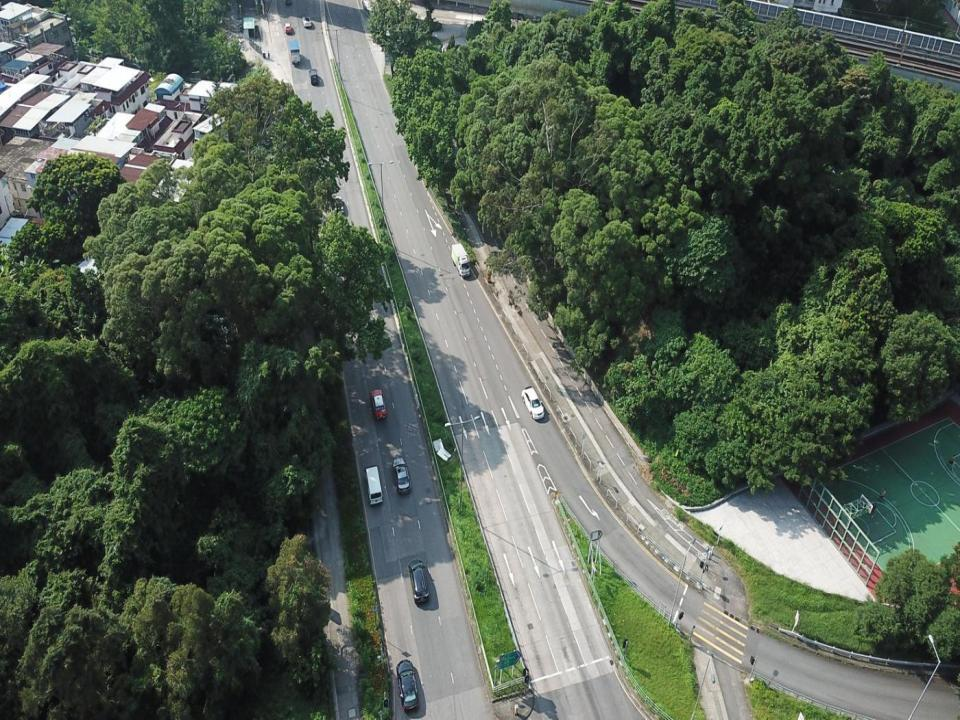car: (396, 658, 419, 712), (408, 558, 430, 605), (520, 386, 544, 420), (392, 455, 412, 495), (370, 388, 388, 422), (302, 16, 312, 28), (284, 22, 292, 35)
truck: (363, 464, 383, 506), (450, 242, 470, 277), (288, 38, 301, 67)
van: (308, 68, 319, 86)
